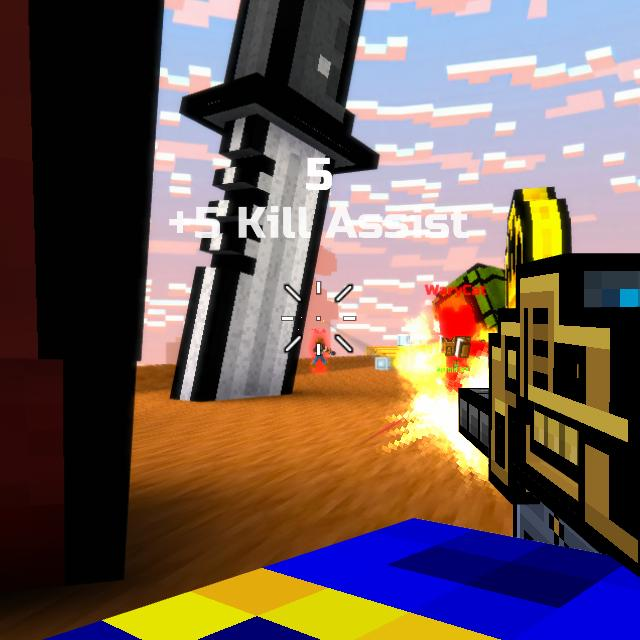Enemy: (438, 311, 489, 393), (310, 337, 330, 369)
